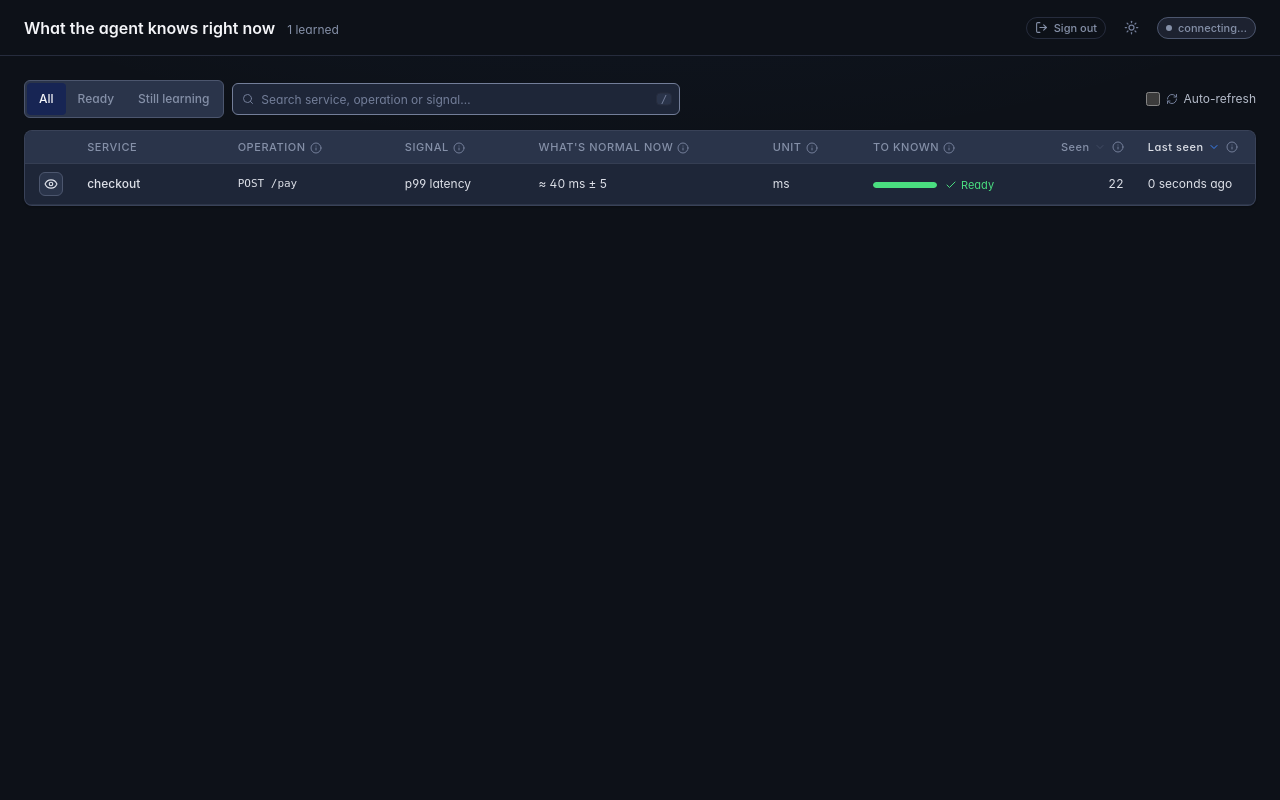
Test: LearnedSignalsView peek — raw-sample-store 'Example metric/trace' › renders latest_sample under 'Example trace' in the traces peek
Click the button titled "View details". click: click(51, 184)
box: [39,172,63,196]
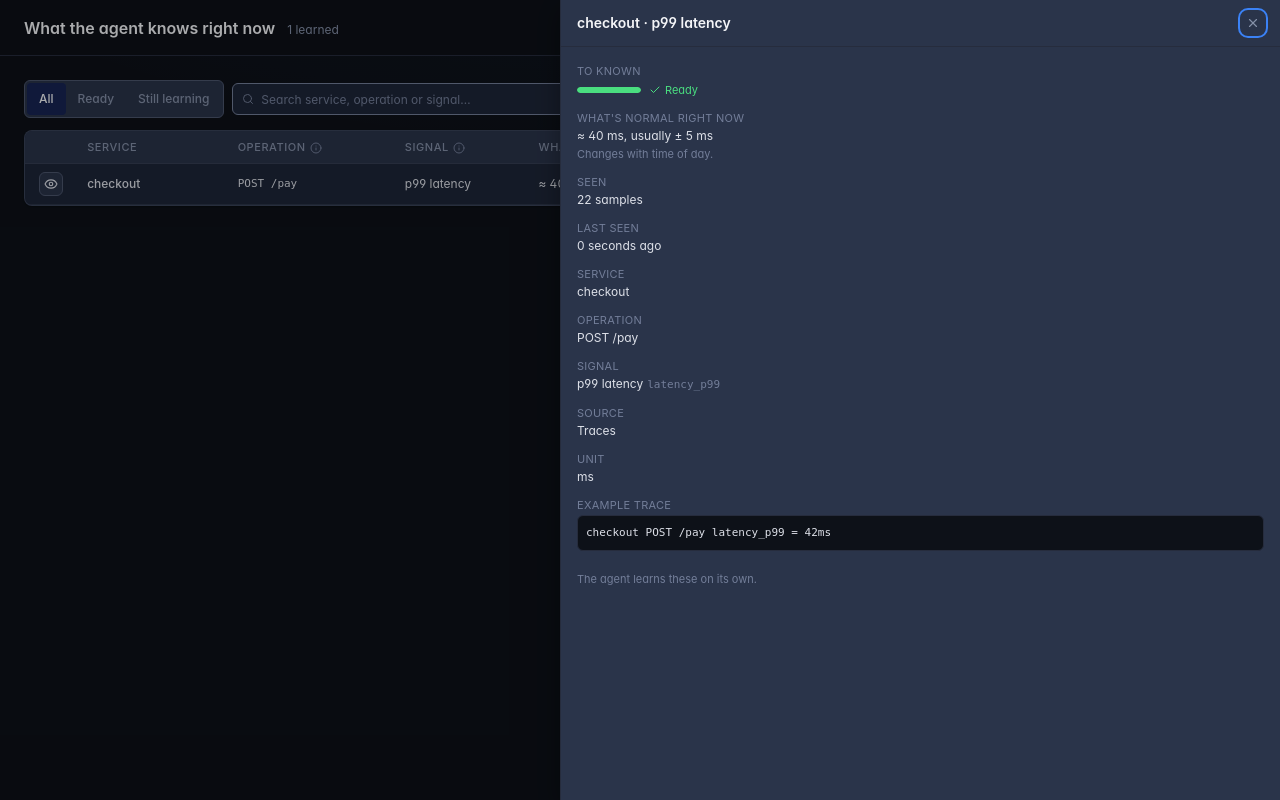
Now the text "Example trace" is shown, box [577,498,671,512]
Now the text "checkout POST /pay latency_p99 = 42ms" is shown, box [577,515,1264,551]
